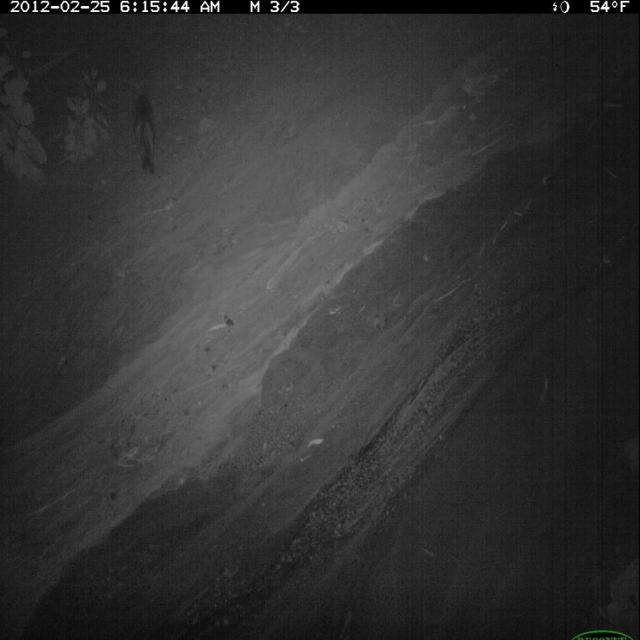cat: (130, 88, 160, 178)
